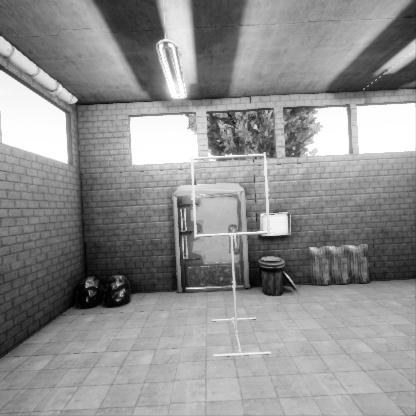gate: (189, 181, 274, 266)
